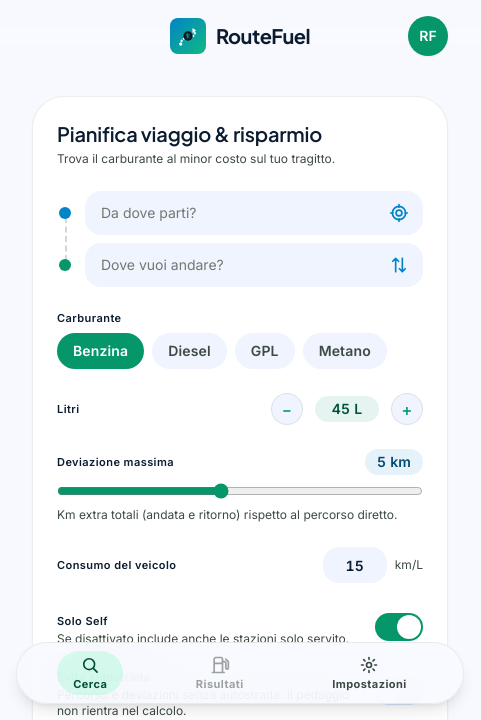
App — barra inferiore a 3 tab e rotta /settings › «Impostazioni» è sempre raggiungibile, anche senza ricerca, e apre la schermata
Click the link "Impostazioni": (370, 673) [332, 655, 407, 691]
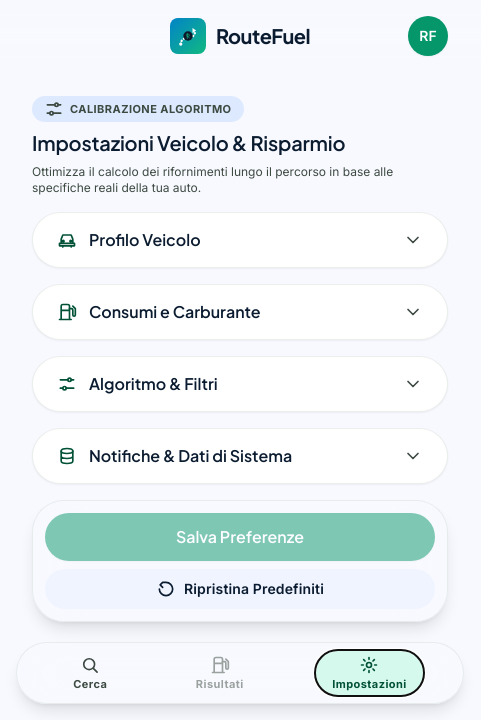
Check: the heading "Impostazioni Veicolo & Risparmio" is shown, box [32, 130, 345, 155]
